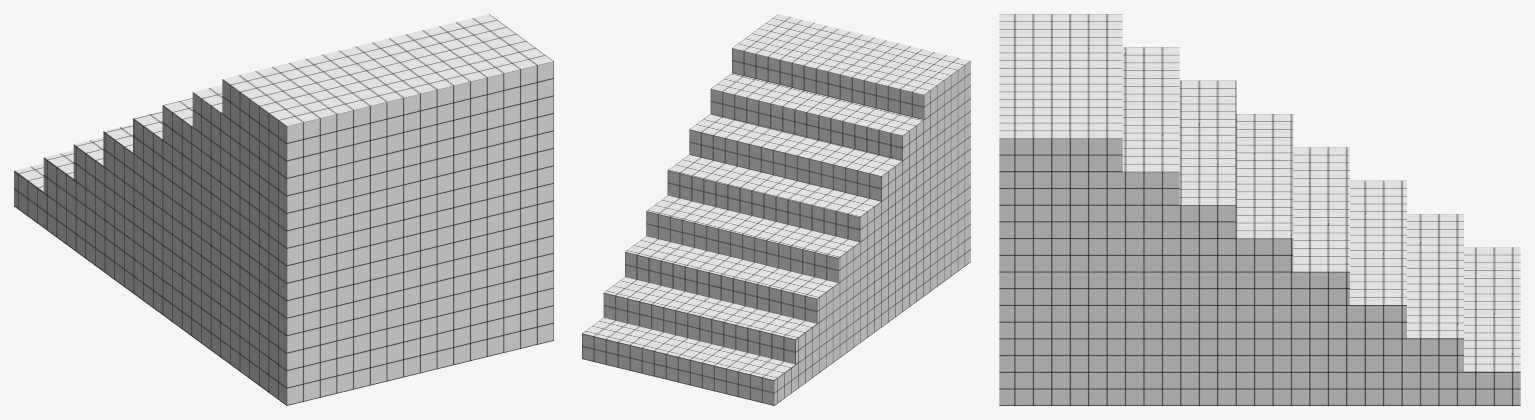
The model's file is PoolroomStairs.fbx.
3 views of the same model, side by side, from view 1: azimuth 30°, elevation 25°; view 2: azimuth 150°, elevation 25°; view 3: azimuth 270°, elevation 25° (orthographic). The views are drawn at different scales.
Visible parts, largest first — view 1: Cube; view 2: Cube; view 3: Cube.
Part boxes in pixels (x1=…): Cube: x1=14, y1=14, x2=553, y2=405; Cube: x1=582, y1=14, x2=970, y2=405; Cube: x1=999, y1=14, x2=1520, y2=405.
Bounding box in the file's own units: 200 × 200 × 354.
